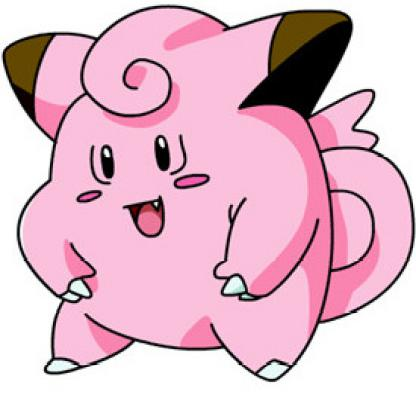Clefairy: (1, 6, 416, 385)
